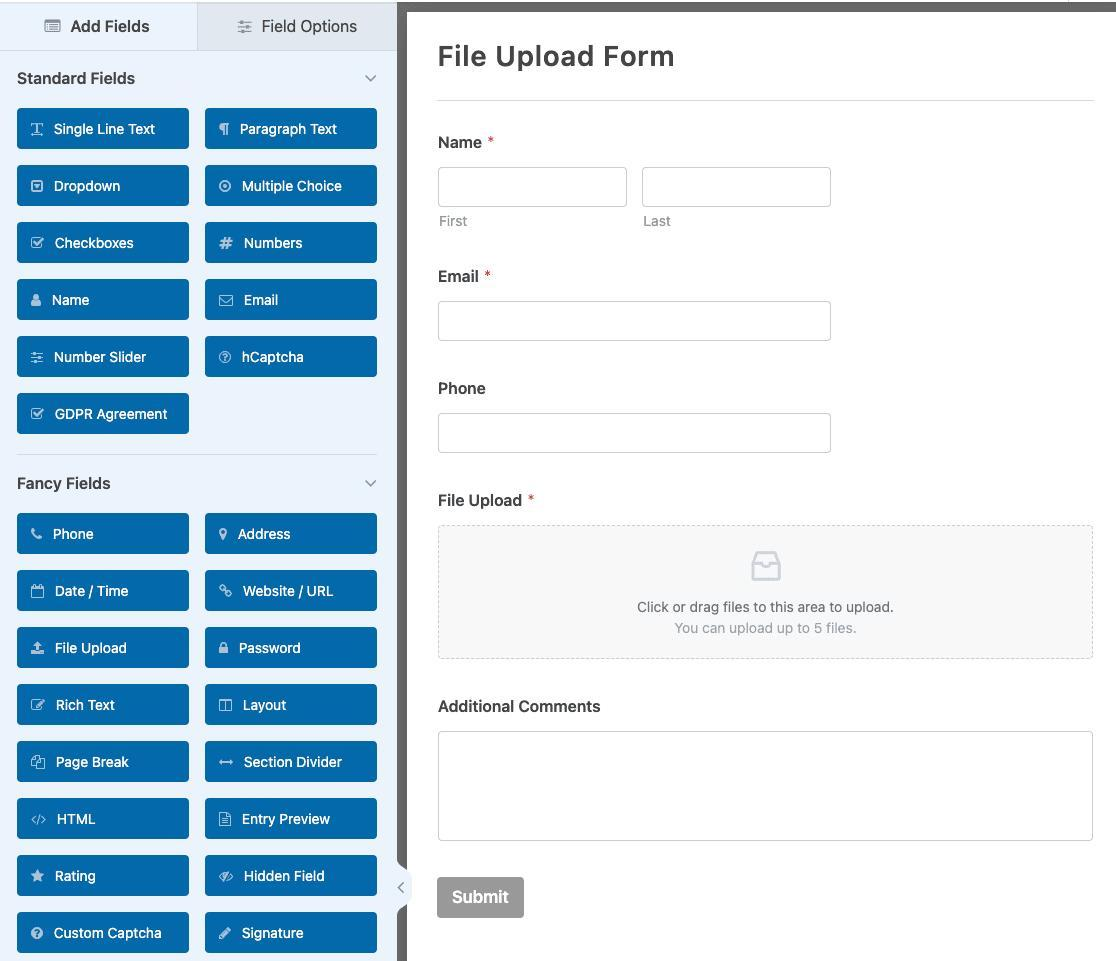button: (1, 1, 198, 52), (200, 1, 396, 52), (19, 910, 191, 956), (205, 106, 380, 151), (207, 797, 378, 843), (205, 512, 379, 557), (18, 626, 192, 671), (15, 685, 191, 729), (15, 739, 190, 783), (17, 797, 188, 842), (205, 625, 379, 669), (205, 336, 379, 379), (204, 685, 377, 728), (18, 513, 187, 557), (19, 392, 187, 436), (18, 279, 189, 322), (207, 742, 377, 785), (16, 109, 190, 151), (204, 165, 378, 207), (16, 223, 190, 265), (204, 223, 378, 265), (19, 854, 188, 897), (205, 914, 378, 956), (17, 570, 191, 611), (16, 337, 190, 377), (205, 572, 380, 611), (16, 167, 189, 206), (207, 858, 378, 896), (206, 283, 375, 320), (437, 877, 525, 919)
icon: (362, 68, 384, 90), (362, 474, 385, 495)
input: (437, 413, 834, 458), (440, 300, 833, 341), (642, 166, 832, 209), (438, 166, 630, 208)
label: (434, 699, 610, 718), (17, 65, 145, 90), (434, 487, 541, 513), (15, 474, 120, 497), (435, 261, 503, 291), (438, 129, 502, 153), (436, 377, 495, 402), (639, 214, 675, 232), (436, 214, 474, 231)
